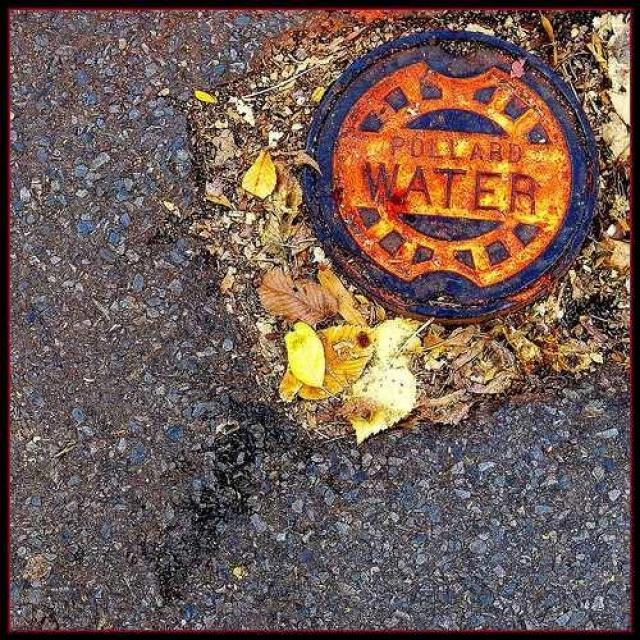manhole: (305, 33, 596, 321)
